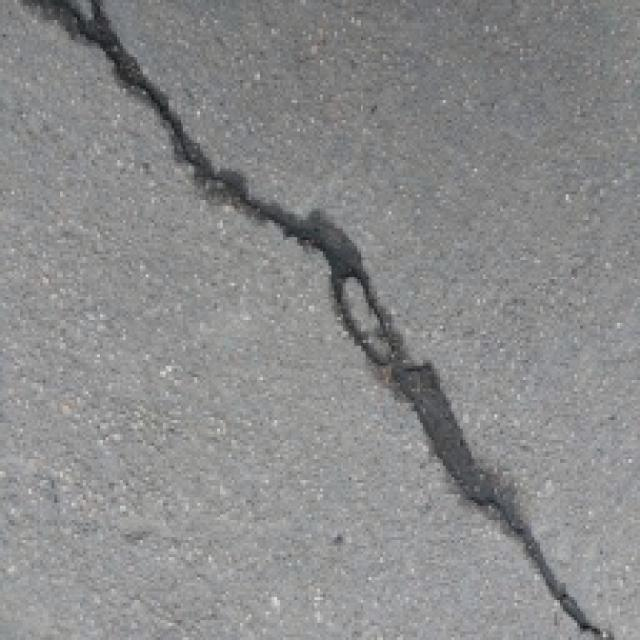SurfaceCrack: (8, 0, 626, 634)
